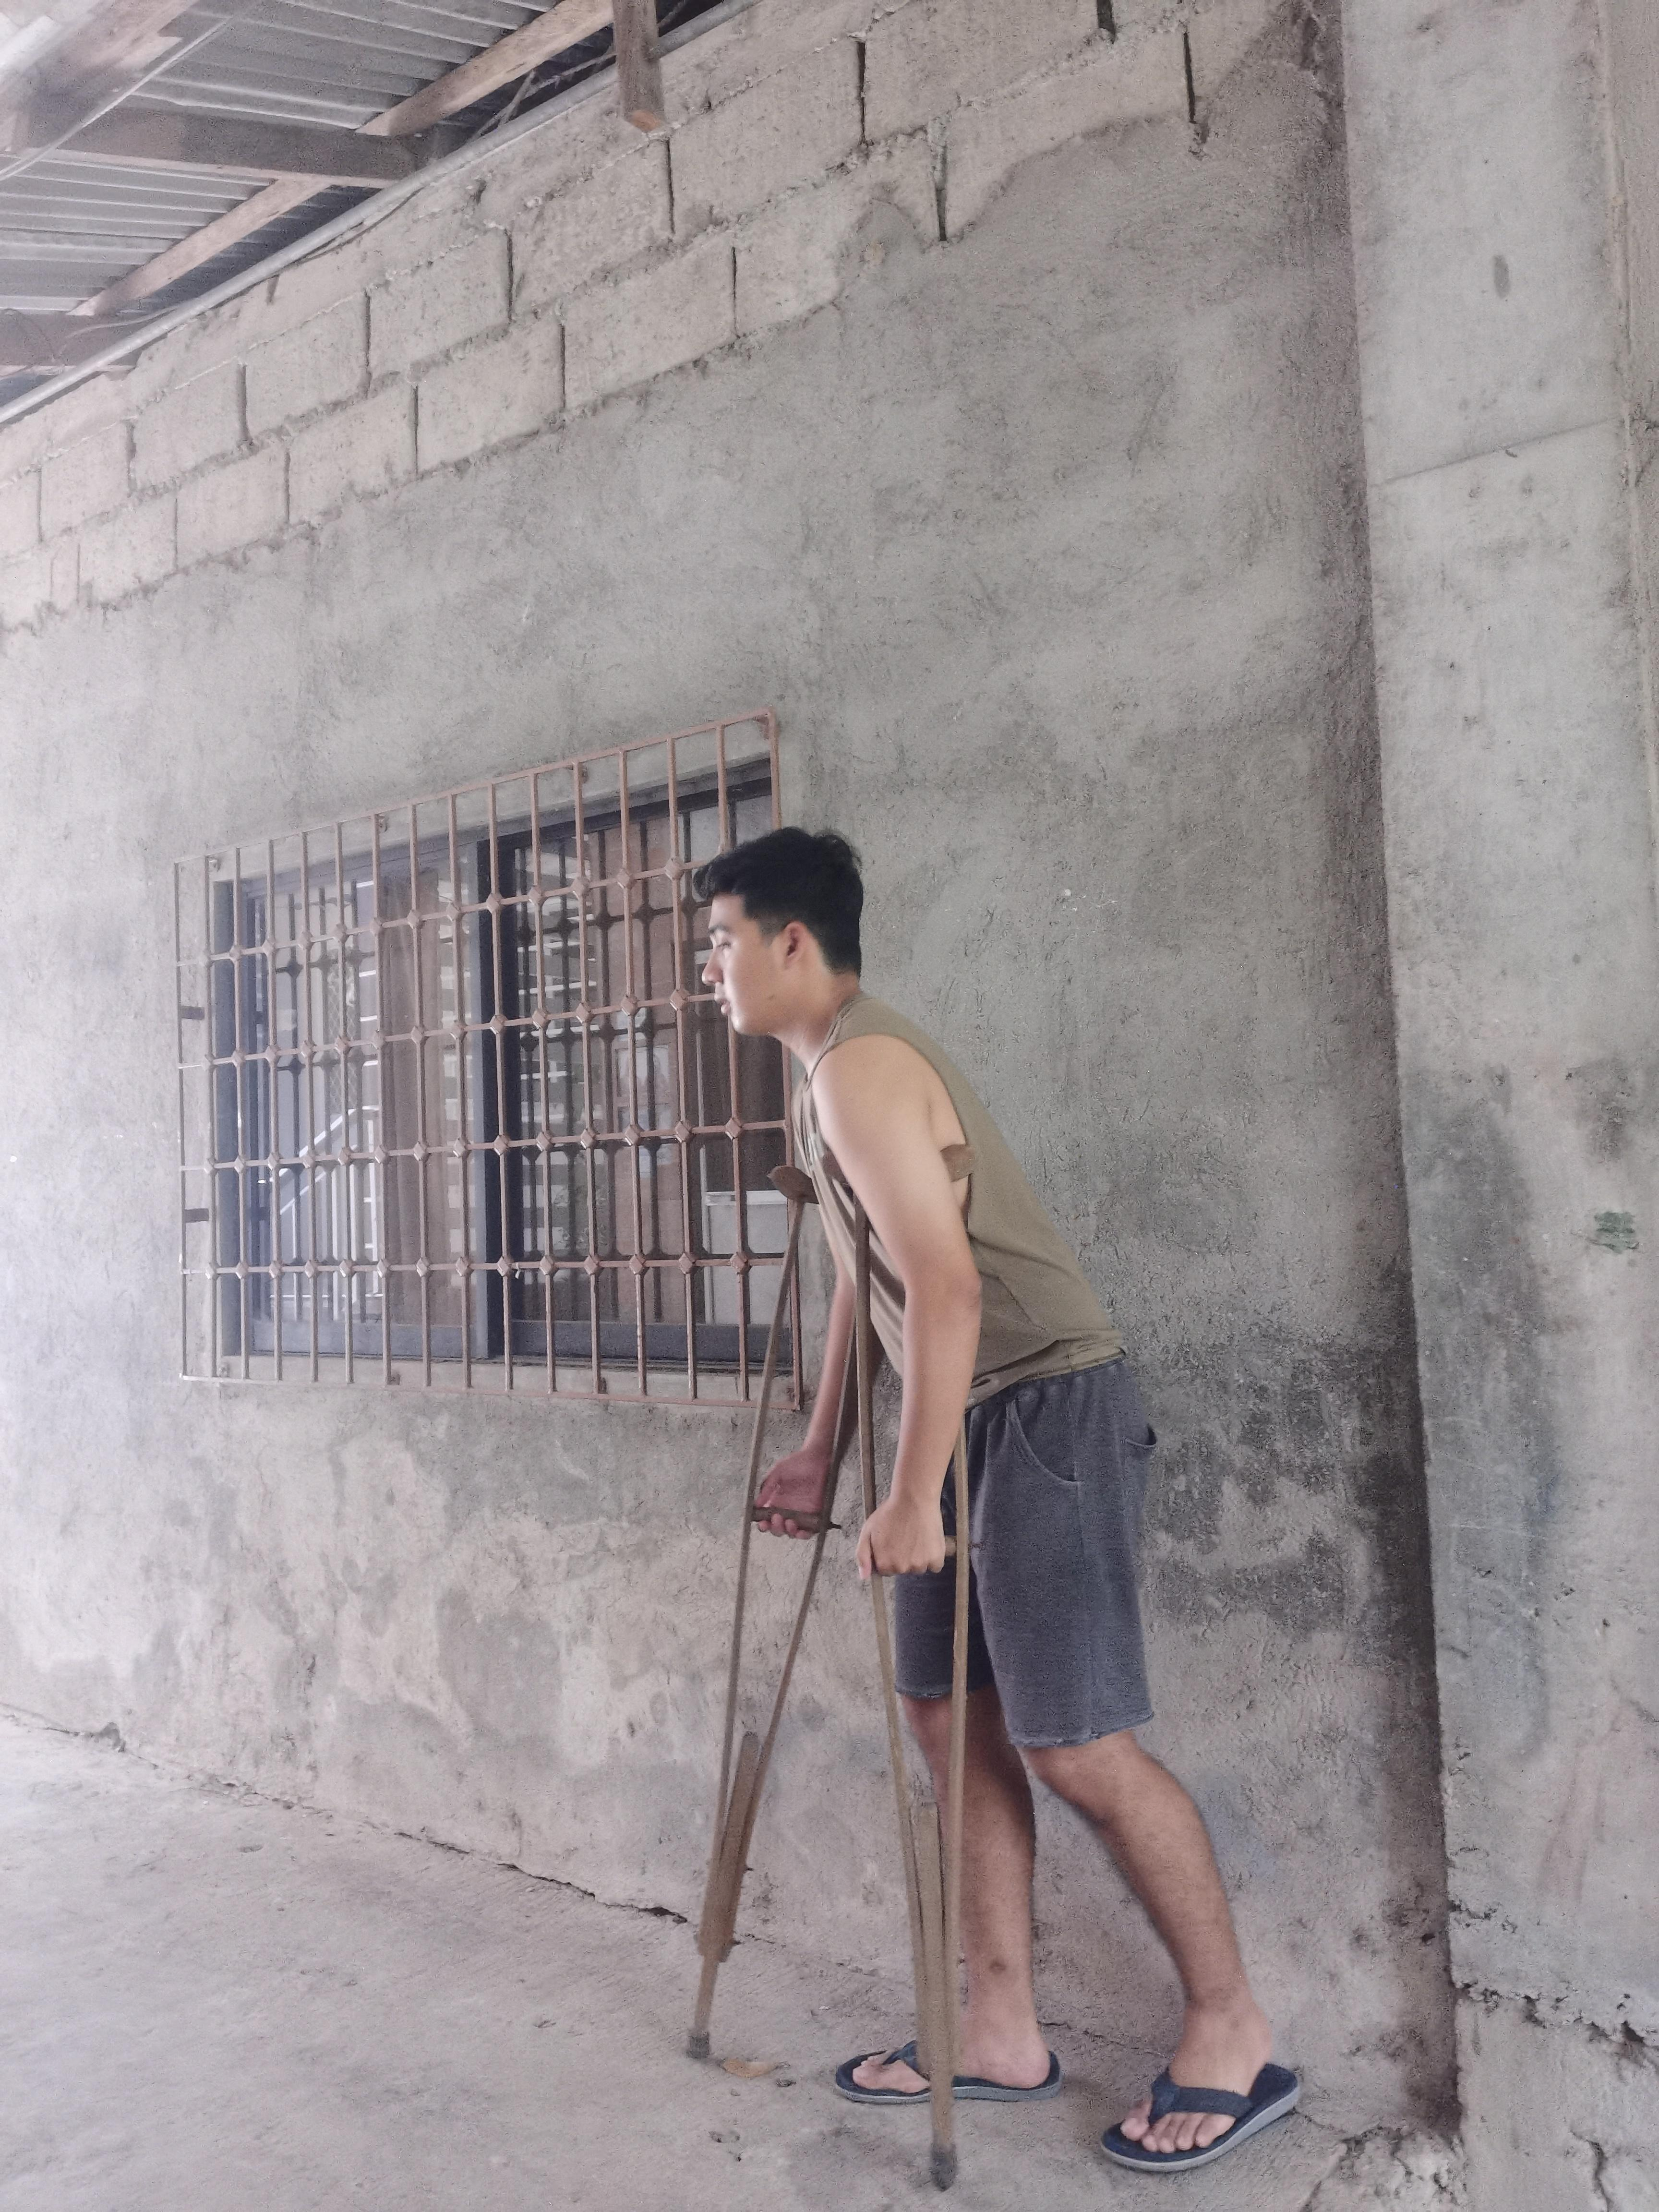crutches: (683, 812, 1317, 2212)
